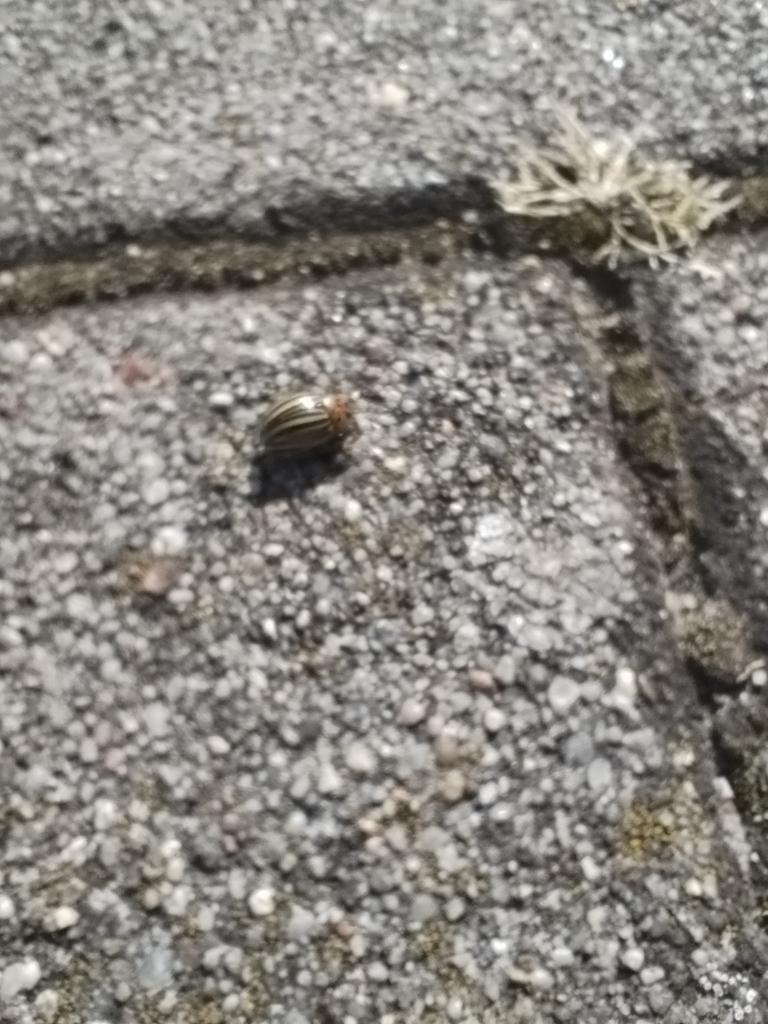potato_beetle: (224, 355, 385, 493)
